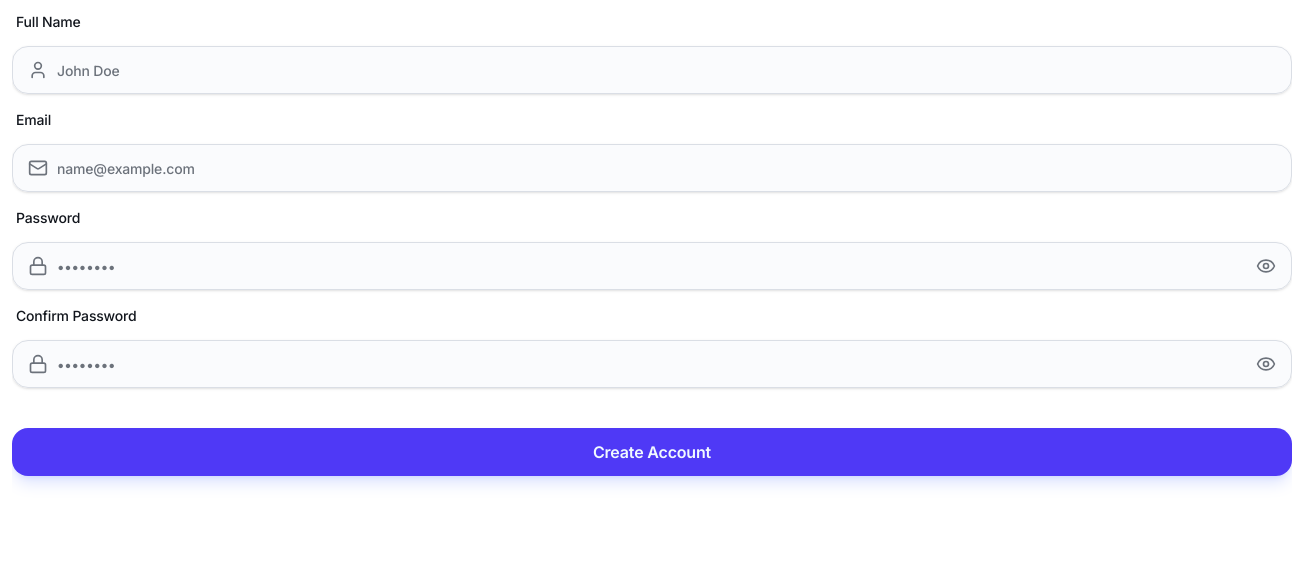
it: SignupForm Component › shows validation errors for invalid inputs (Empty Fields)
Step 1. Click the button "Create Account" → (652, 452), box [12,428,1292,476]
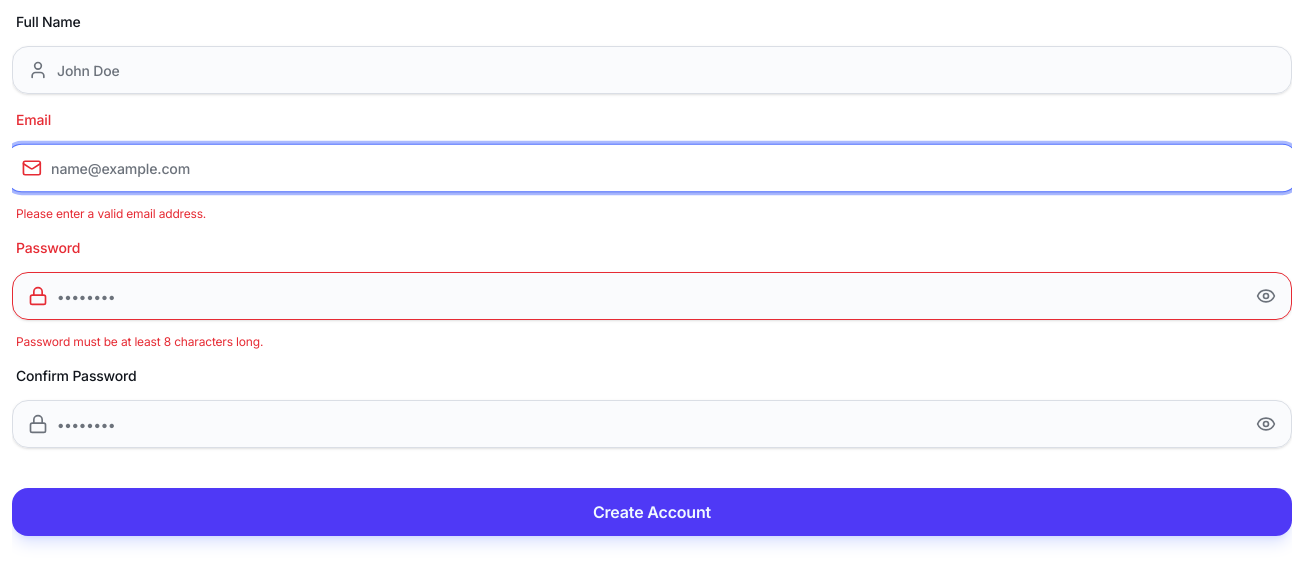
Result: the text "Password must be at least 8 characters long." is shown at [16,334,263,349]
